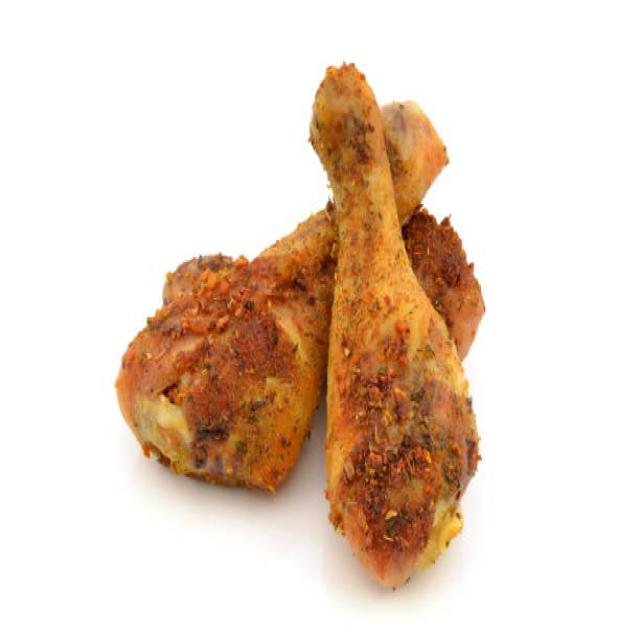chicken thigh: (313, 63, 479, 566)
